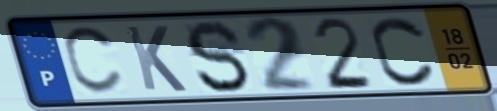2: (243, 15, 322, 96), (311, 15, 375, 91)
C: (368, 14, 439, 89), (60, 24, 126, 97)
K: (121, 23, 190, 94)
S: (181, 18, 254, 96)
